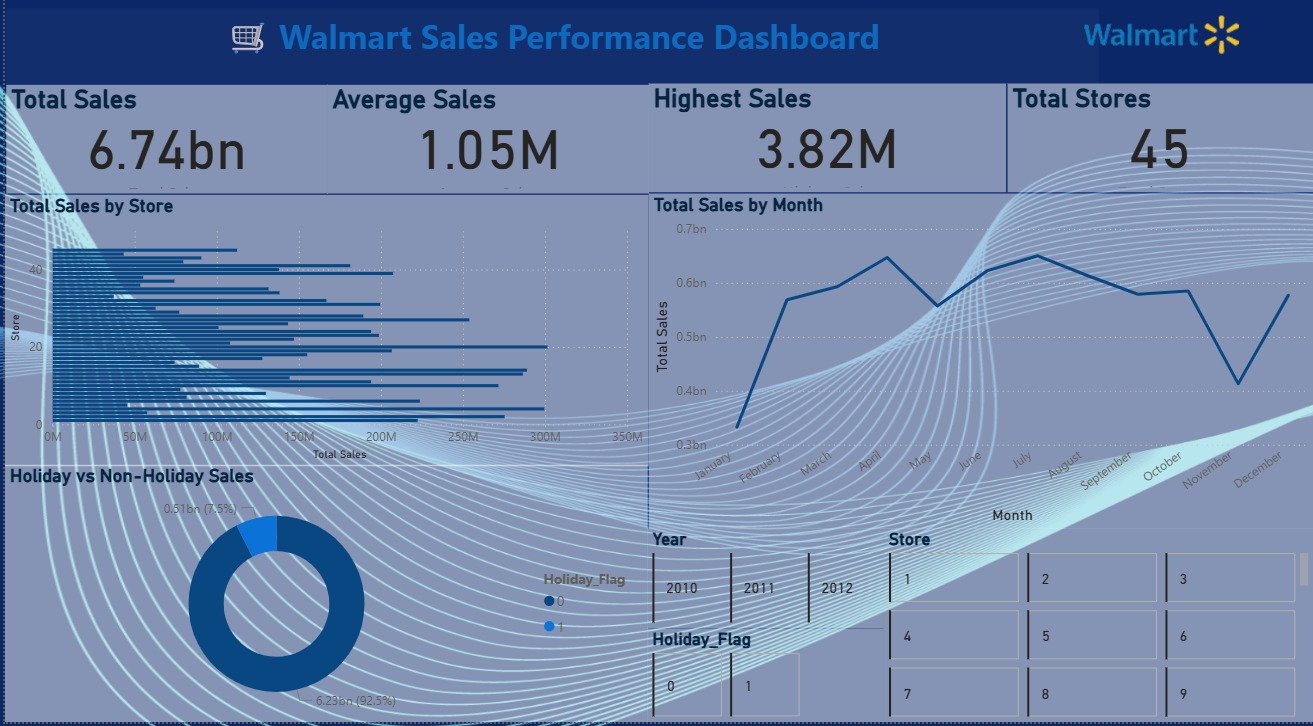

The dashboard page shown, as its layout file describes it:
{"tool":"powerbi","page":{"name":"Page 1","canvas":[1280,720],"ordinal":0},"visuals":[{"type":"card","title":"Total Sales","fields":{"Values":["Walmart.Total Sales"]},"box":[1.2,96.6,314.3,106.4],"z":0},{"type":"card","title":"Average Sales","fields":{"Values":["Walmart.Average Sales"]},"box":[315.5,96.6,314.3,106.4],"z":1000},{"type":"card","title":"Highest Sales","fields":{"Values":["Walmart.Highest Sale"]},"box":[629.8,95.4,349.7,106.4],"z":2000},{"type":"card","title":"Total Stores","fields":{"Values":["Walmart.Total Stores"]},"box":[980.7,95.4,299.6,106.4],"z":3000},{"type":"clusteredBarChart","fields":{"Category":["Walmart.Store"],"Y":["Walmart.Total Sales"]},"box":[0,204.2,629.8,265.4],"z":4000},{"type":"lineChart","fields":{"Category":["Walmart.Month"],"Y":["Walmart.Total Sales"]},"box":[629.8,203,650.5,327.7],"z":5000},{"type":"donutChart","title":"Holiday vs Non-Holiday Sales","fields":{"Category":["Walmart.Holiday_Flag"],"Y":["Walmart.Total Sales"]},"box":[0,468.3,628.5,251.9],"z":6000},{"type":"advancedSlicerVisual","fields":{"Values":["Walmart.Year"]},"box":[628.5,530.7,231.1,97.8],"z":7000},{"type":"advancedSlicerVisual","fields":{"Values":["Walmart.Store"]},"box":[859.7,530.7,420.7,189.5],"z":8000},{"type":"advancedSlicerVisual","fields":{"Values":["Walmart.Holiday_Flag"]},"box":[628.5,628.5,231.1,91.7],"z":9000},{"type":"textbox","box":[1.2,22,1068.8,73.4],"z":10000},{"type":"image","box":[980.7,0,299.6,95.4],"z":11000}]}

Visuals, with their boxes in screenshot pixels (x1, y1, x2, y2), scaled from the page's 1280x720 canvas onto the 1313x726 screenshot:
"Total Sales" card: [left=1, top=97, right=324, bottom=205]
"Average Sales" card: [left=324, top=97, right=646, bottom=205]
"Highest Sales" card: [left=646, top=96, right=1005, bottom=203]
"Total Stores" card: [left=1006, top=96, right=1312, bottom=203]
clusteredBarChart - Walmart.Store x Walmart.Total Sales: [left=0, top=206, right=646, bottom=474]
lineChart - Walmart.Month x Walmart.Total Sales: [left=646, top=205, right=1312, bottom=535]
"Holiday vs Non-Holiday Sales" donutChart: [left=0, top=472, right=645, bottom=725]
advancedSlicerVisual - Walmart.Year: [left=645, top=535, right=882, bottom=634]
advancedSlicerVisual - Walmart.Store: [left=882, top=535, right=1312, bottom=725]
advancedSlicerVisual - Walmart.Holiday_Flag: [left=645, top=634, right=882, bottom=725]
textbox: [left=1, top=22, right=1098, bottom=96]
image: [left=1006, top=0, right=1312, bottom=96]
